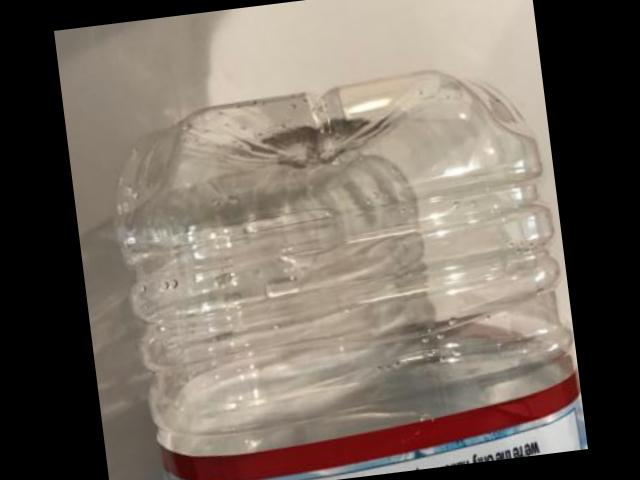plastic: (115, 74, 579, 480)
